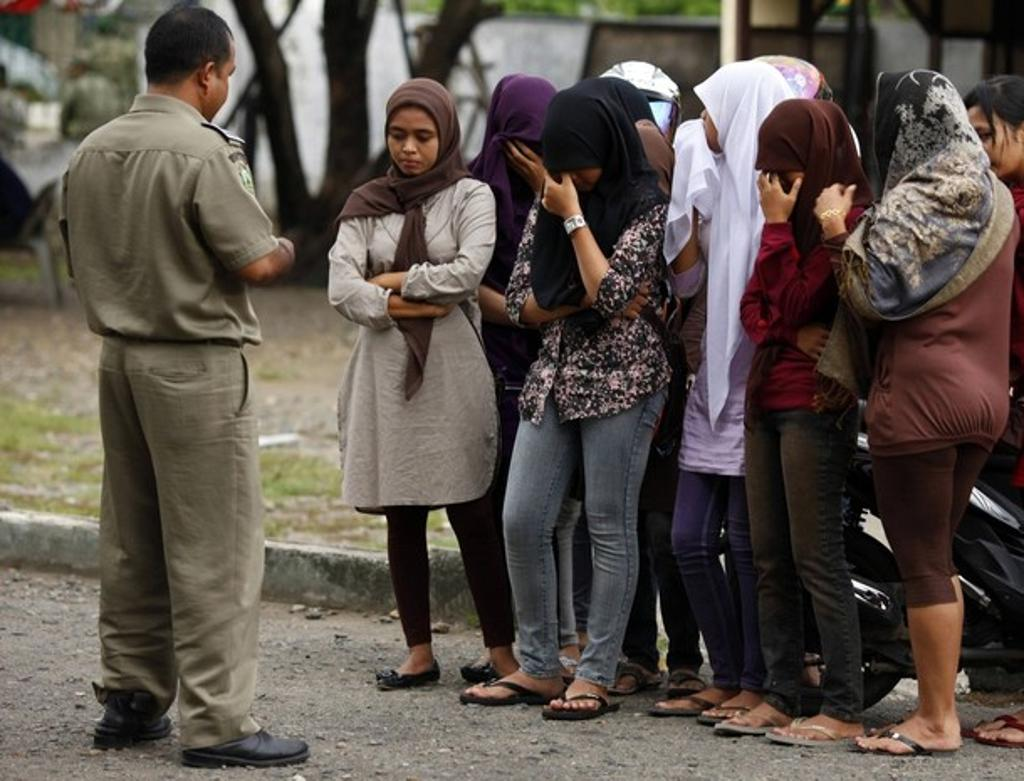face: (387, 112, 440, 177), (968, 110, 1018, 178), (197, 57, 236, 119), (770, 159, 822, 205), (556, 149, 603, 192), (701, 92, 735, 150)
